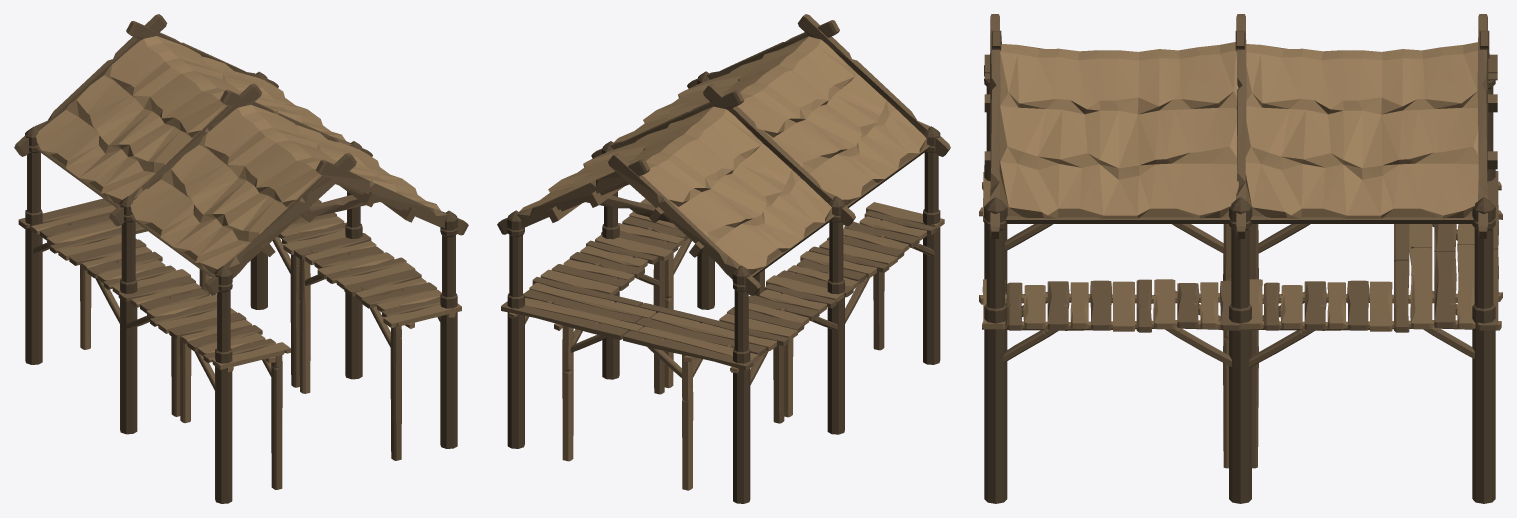
Rendered from Cobertizo_01.glb.
3 views of the same model, side by side, from view 1: azimuth 30°, elevation 25°; view 2: azimuth 150°, elevation 25°; view 3: azimuth 270°, elevation 25° (orthographic). The views are drawn at different scales.
Parts seen in each view (by area): view 1: SM_Bld_BoatHouse_01; view 2: SM_Bld_BoatHouse_01; view 3: SM_Bld_BoatHouse_01.
Boxes of the visible parts, <box> form: SM_Bld_BoatHouse_01: <box>14,14,468,503</box>; SM_Bld_BoatHouse_01: <box>497,14,950,503</box>; SM_Bld_BoatHouse_01: <box>979,14,1502,503</box>.
Bounding box in the file's own units: 8.01 × 9.22 × 10.8.
Materials: 1 (1 with a texture image).
